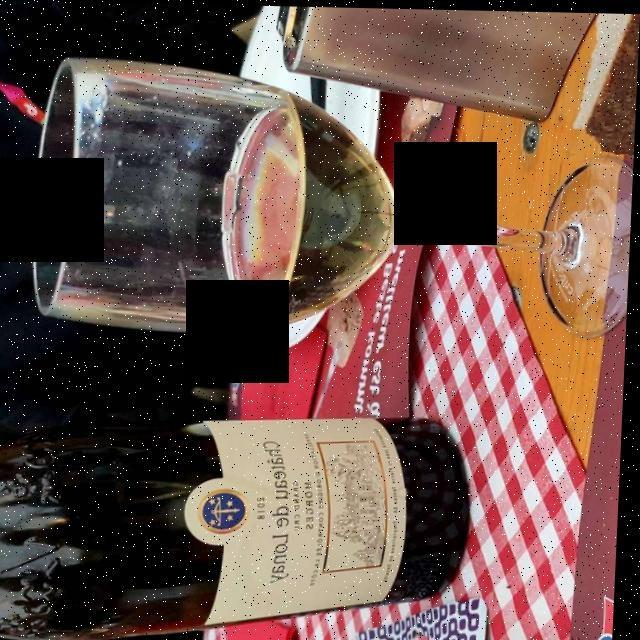wine: (233, 99, 397, 315)
